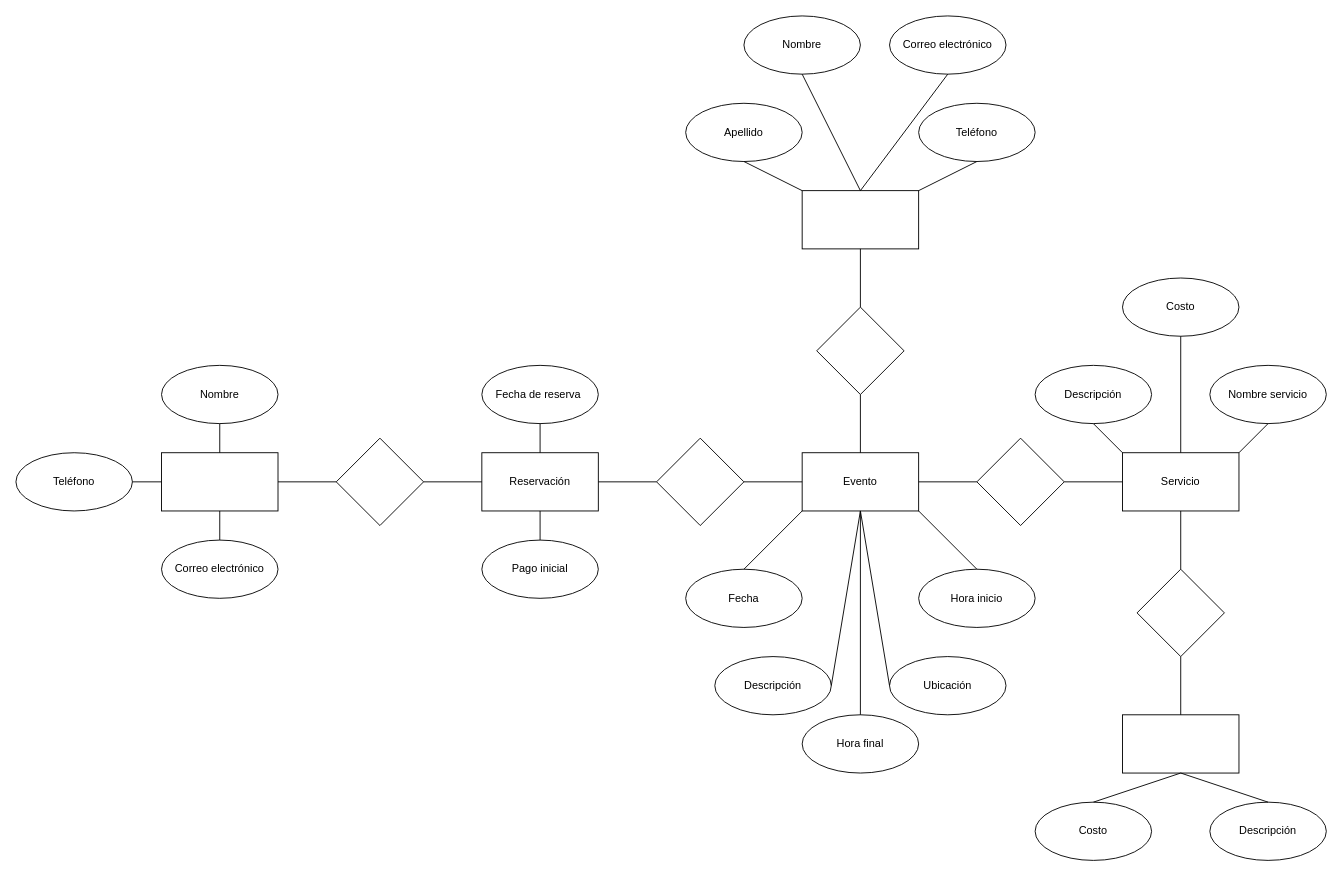
Some shapes in this 1342 by 876 pixel diagram are drawn without their labels. Here are the shapes that lost their labels. From the top down, the centre of each, then its label:
At (860,219): "Empleado".
At (860,350): "Participa".
At (219,481): "Clientes".
At (379,481): "Hace".
At (700,481): "Tiene".
At (1020,481): "Incluye".
At (1180,612): "E stá en".
At (1180,743): "Paquete".
